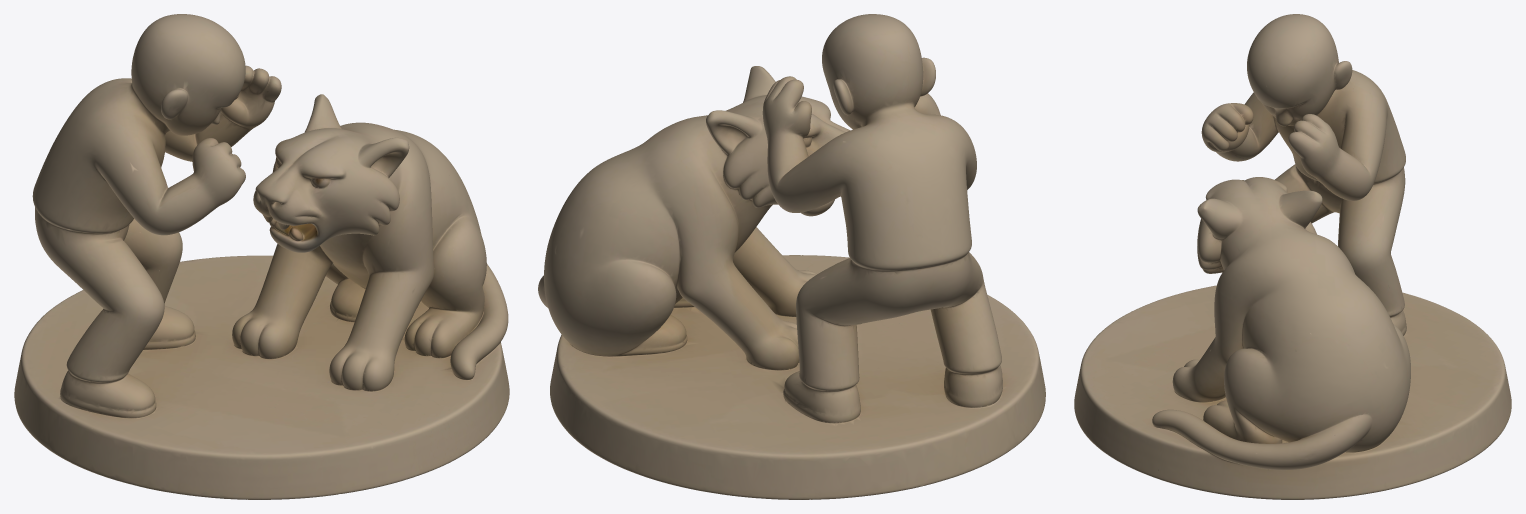
3 views of the same model, side by side, from view 1: azimuth 30°, elevation 25°; view 2: azimuth 150°, elevation 25°; view 3: azimuth 270°, elevation 25° (orthographic). The views are drawn at different scales.
Visible parts, largest first — view 1: material; view 2: material; view 3: material.
Boxes of the visible parts, x1=… form: material: x1=14, y1=14, x2=509, y2=499; material: x1=538, y1=14, x2=1045, y2=499; material: x1=1074, y1=14, x2=1511, y2=499.
Bounding box in the file's own units: 0.9243 × 0.7719 × 0.8679.
Materials: 1 (1 with a texture image).
